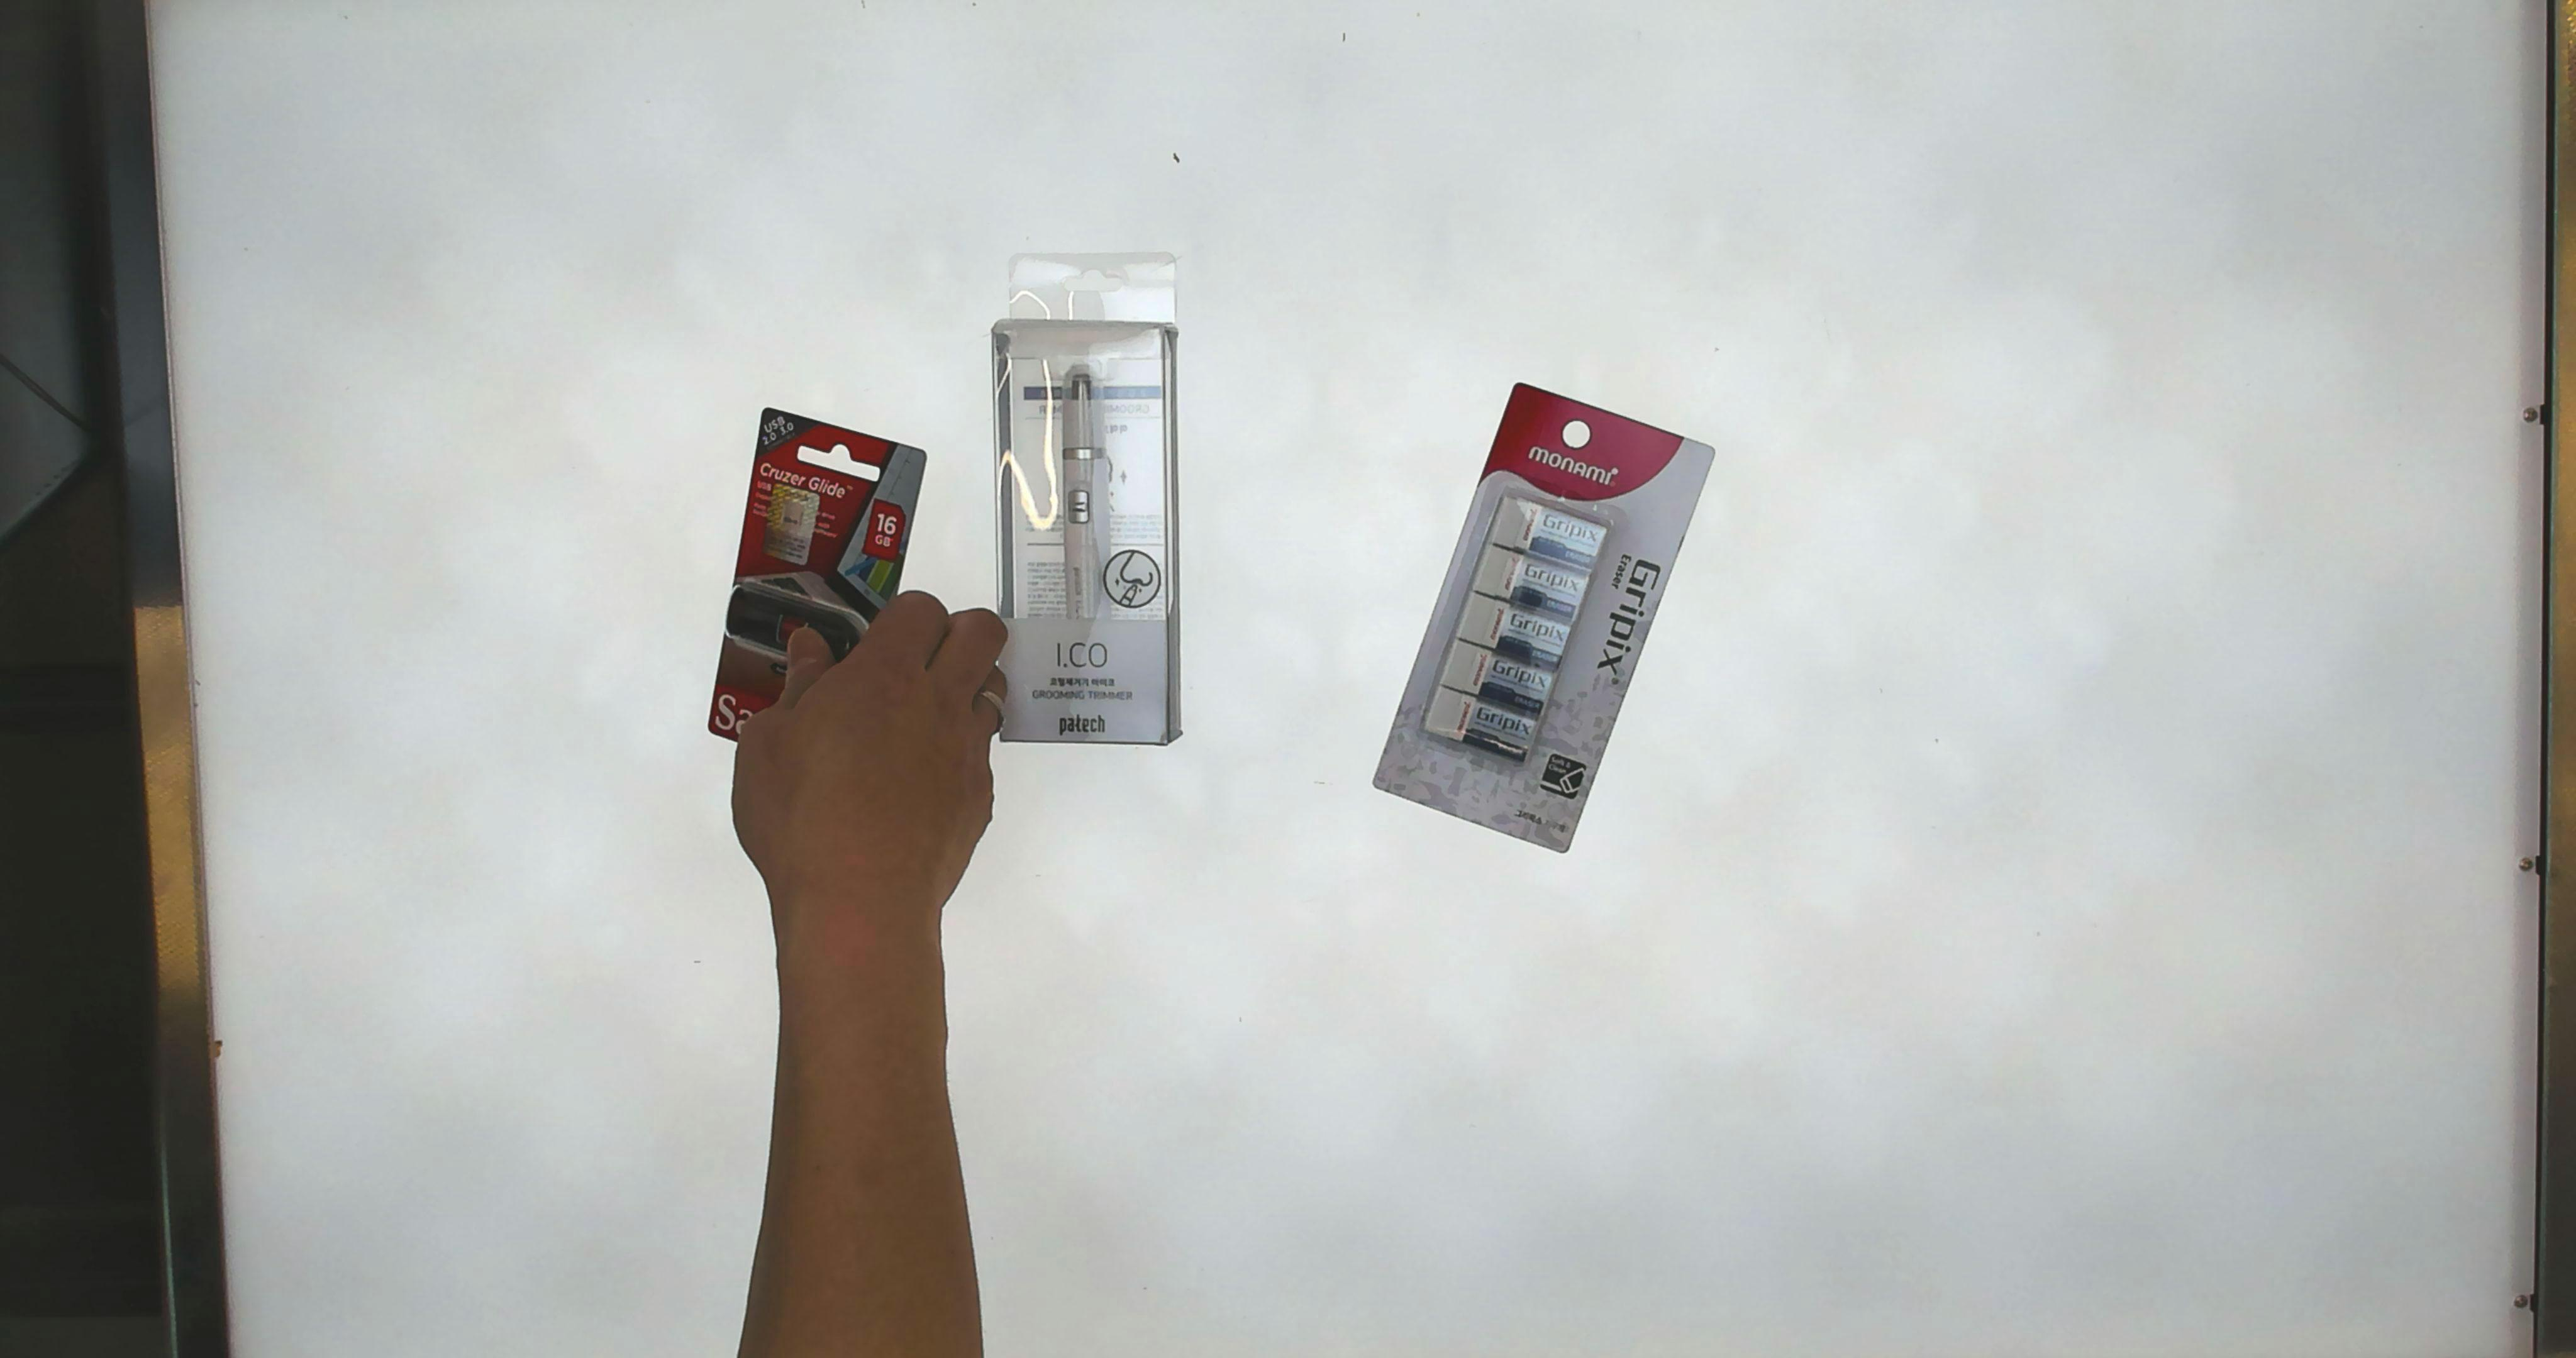body: (710, 578, 1022, 1358)
product: (1320, 366, 1770, 879), (947, 233, 1235, 818), (690, 394, 956, 777)
